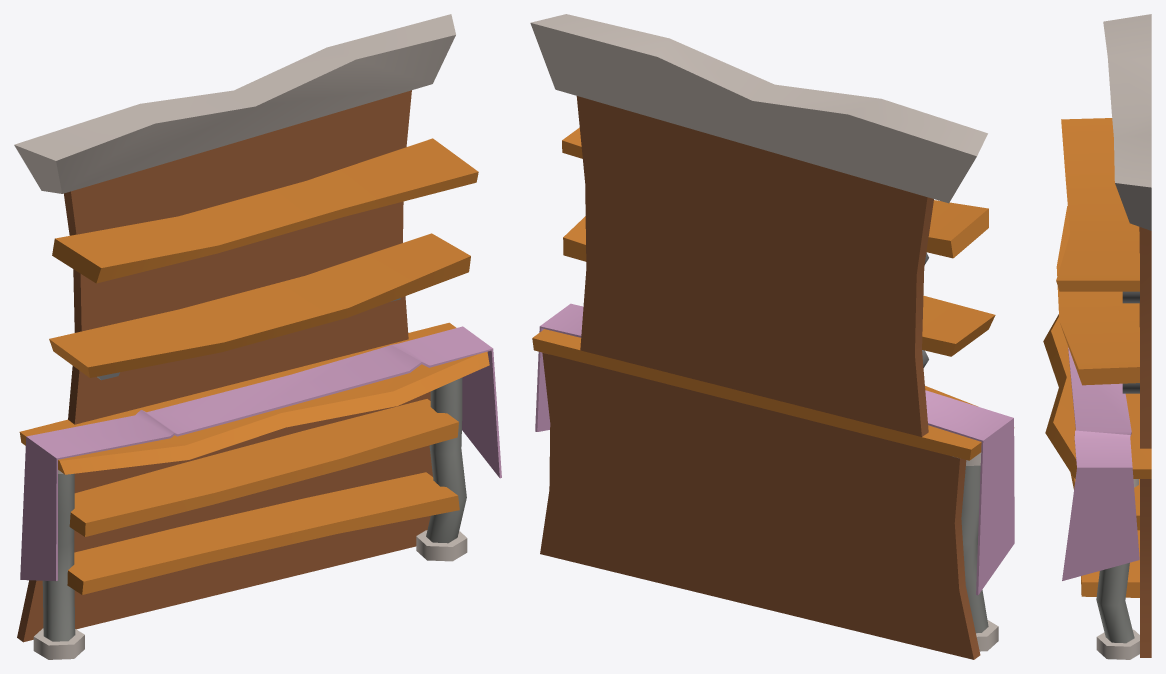
The model's file is Library.fbx.
3 views of the same model, side by side, from view 1: azimuth 30°, elevation 25°; view 2: azimuth 150°, elevation 25°; view 3: azimuth 270°, elevation 25° (orthographic). The views are drawn at different scales.
Visible parts, largest first — view 1: Library; view 2: Library; view 3: Library.
Boxes of the visible parts, bbox=[...] form: Library: bbox=[14, 14, 501, 659]; Library: bbox=[530, 14, 1014, 659]; Library: bbox=[1043, 14, 1151, 659].
Size of the model in its own units: 2.04 by 2.31 by 0.4763.
